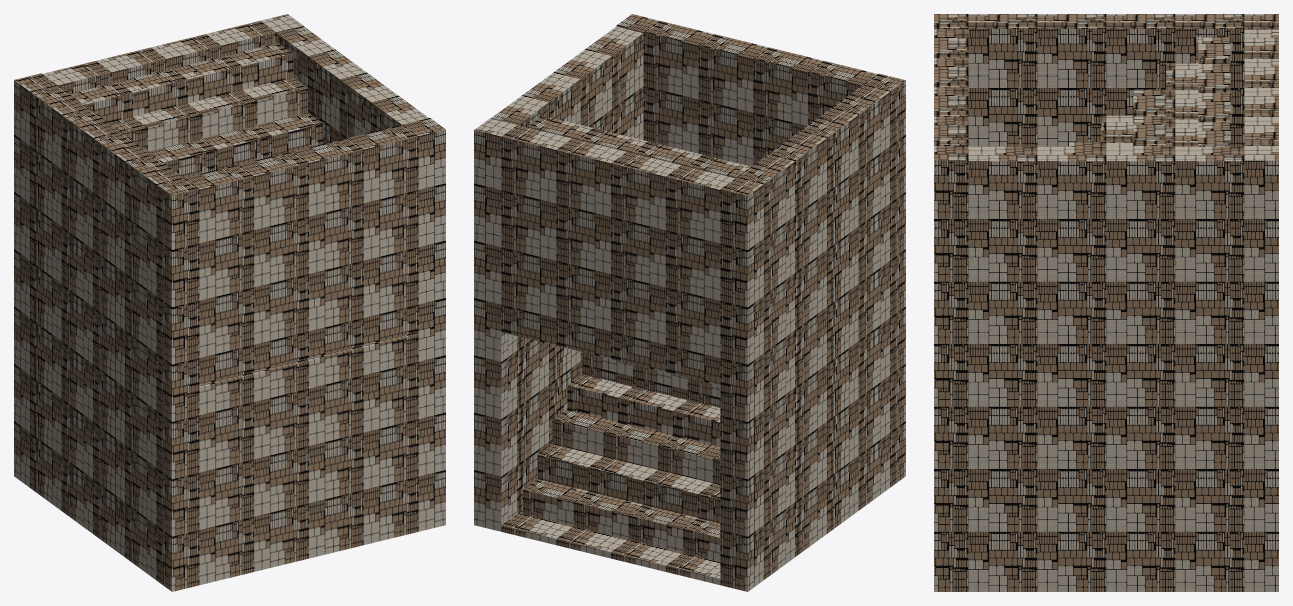
Rendered from dungeon_entry_stair.glb.
3 views of the same model, side by side, from view 1: azimuth 30°, elevation 25°; view 2: azimuth 150°, elevation 25°; view 3: azimuth 270°, elevation 25° (orthographic). The views are drawn at different scales.
Visible parts, largest first — view 1: dungeon_entry_stair; view 2: dungeon_entry_stair; view 3: dungeon_entry_stair.
Part boxes in pixels (x1,y1,x2,y2): dungeon_entry_stair: (14,14,445,591); dungeon_entry_stair: (474,14,905,591); dungeon_entry_stair: (934,14,1278,591).
Bounding box in the file's own units: 5 × 6.91 × 5.
1 material, 1 textured.
